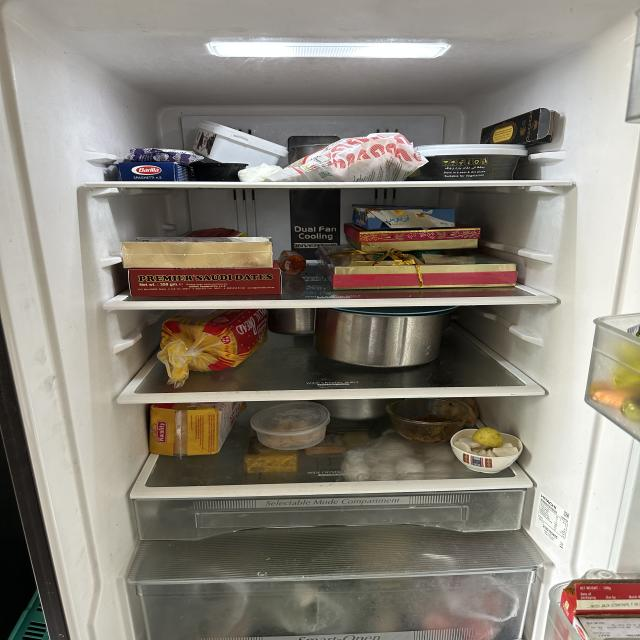Champiñones: (342, 438, 454, 482)
Limón: (472, 428, 502, 447)
Mantequilla: (416, 145, 527, 182)
bread: (166, 312, 266, 368), (150, 399, 246, 454)
